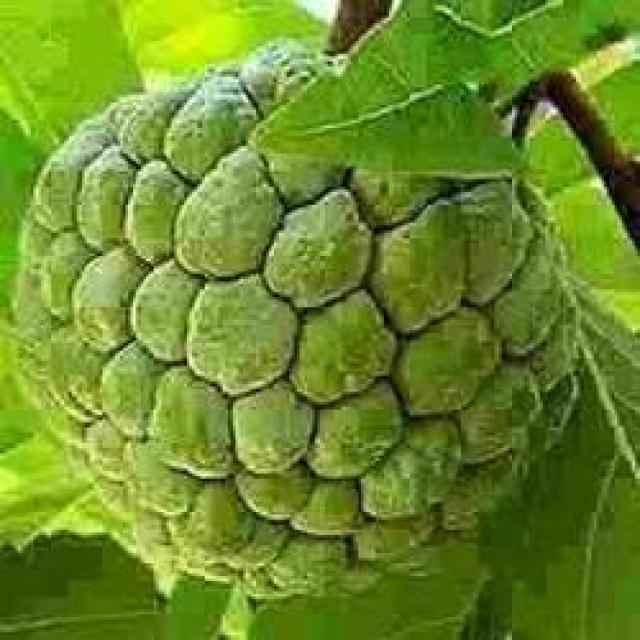apple: (26, 41, 578, 596)
